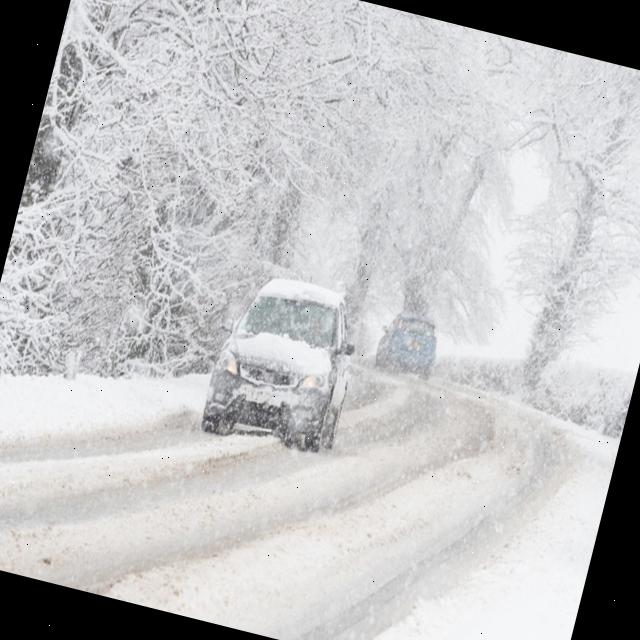car: (198, 266, 368, 462), (372, 309, 444, 380)
